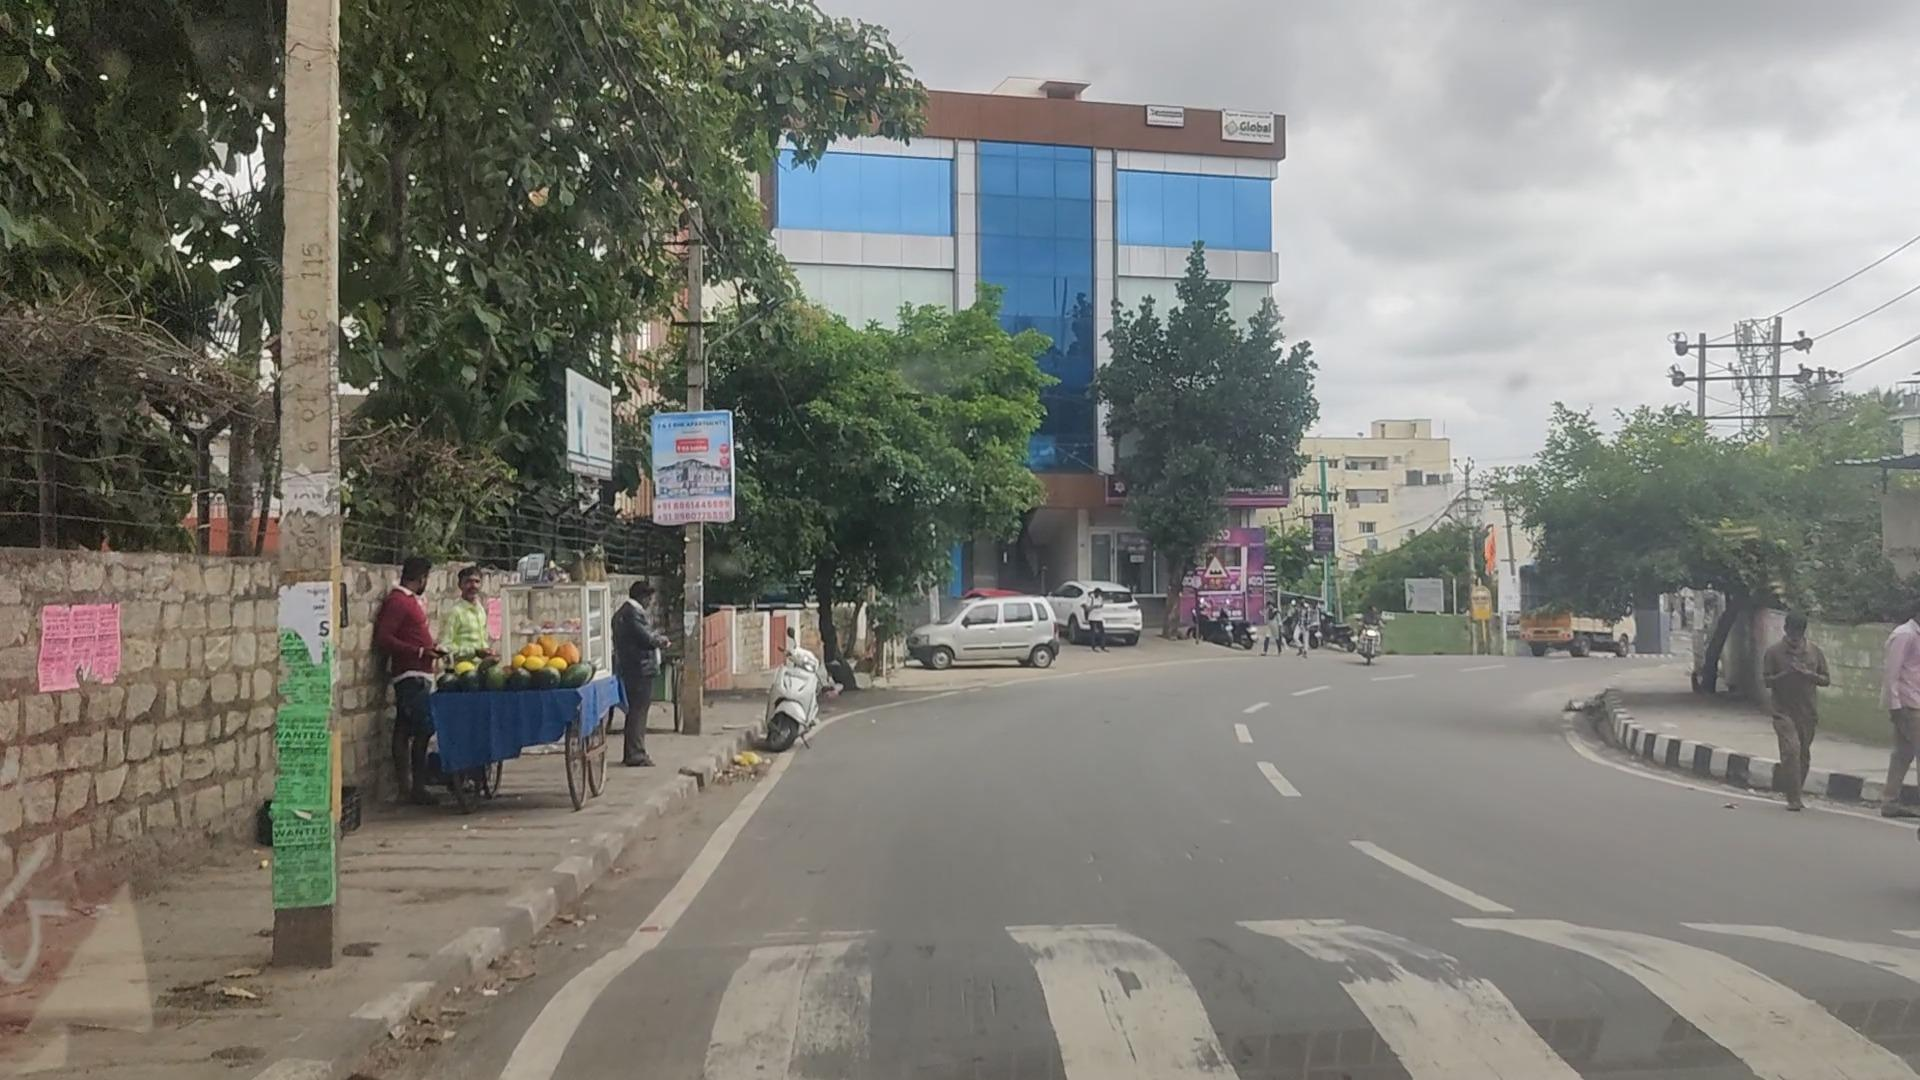SpeedBump: (580, 919, 1920, 1080)
